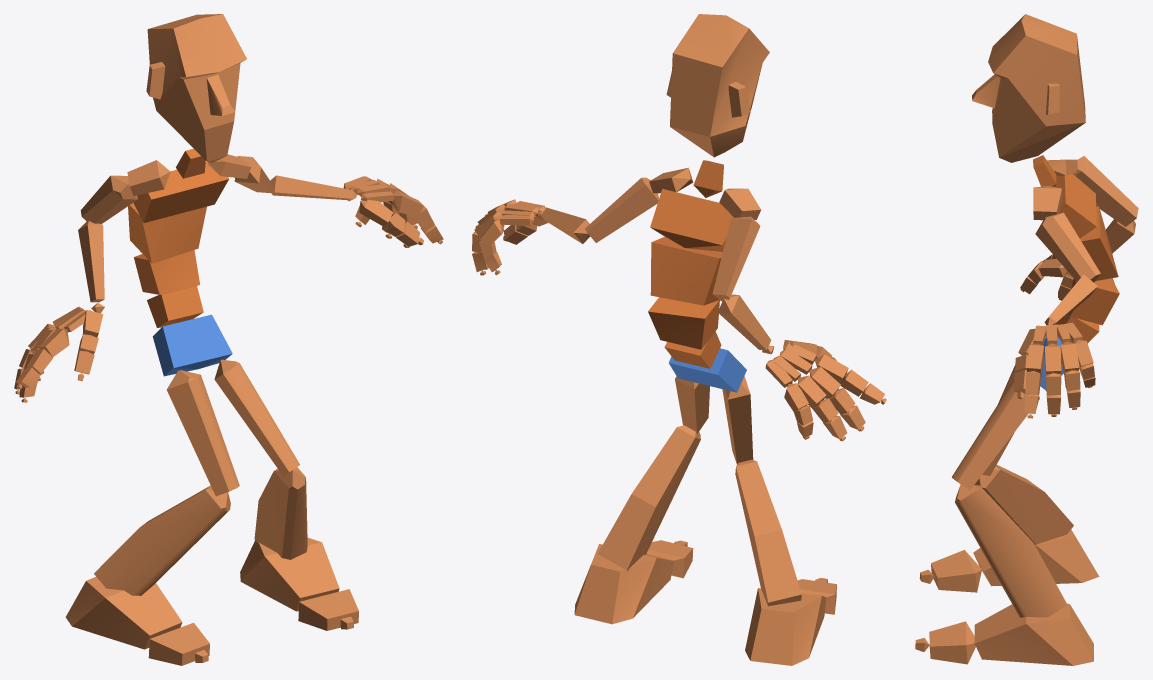
File: prueba100.obj
The picture shows the model from 3 angles, left to right: view 1: azimuth 30°, elevation 25°; view 2: azimuth 150°, elevation 25°; view 3: azimuth 270°, elevation 25°; orthographic projection. The views are drawn at different scales.
Parts seen in each view (by area): view 1: BOPED_Head, BOPED_R_leg, BOPED_R_foot, BOPED_R_foot01, BOPED_R_legup, BOPED_L_leg, Bone01, BOPED_L_legup, Bone04, Bone05, Bone03, BOPED_R_foot_toe04 (+9 smaller); view 2: BOPED_Head, BOPED_L_leg, BOPED_R_leg, BOPED_R_foot01, BOPED_R_foot, Bone04, Bone05, Bone03, BOPED_R_arm_upper, BOPED_L_arm_upper, Bone01, BOPED_R_legup (+9 smaller); view 3: BOPED_Head, BOPED_L_leg, BOPED_R_foot01, BOPED_R_leg, BOPED_L_legup, BOPED_R_foot, BOPED_L_arm_upper, BOPED_R_arm_upper, Bone05, BOPED_R_foot_toe01, BOPED_R_foot_toe04, Bone03 (+15 smaller).
Boxes of the visible parts, x1=… form: BOPED_Head: x1=146, y1=14, x2=246, y2=162; BOPED_R_leg: x1=94, y1=485, x2=230, y2=595; BOPED_R_foot: x1=65, y1=577, x2=182, y2=649; BOPED_R_foot01: x1=240, y1=537, x2=339, y2=611; BOPED_R_legup: x1=166, y1=370, x2=239, y2=496; BOPED_L_leg: x1=254, y1=467, x2=307, y2=559; Bone01: x1=152, y1=314, x2=232, y2=376; BOPED_L_legup: x1=214, y1=359, x2=299, y2=475; Bone04: x1=128, y1=203, x2=206, y2=263; Bone05: x1=133, y1=162, x2=228, y2=222; Bone03: x1=134, y1=250, x2=200, y2=294; BOPED_R_foot_toe04: x1=298, y1=589, x2=358, y2=630; BOPED_Head: x1=666, y1=14, x2=769, y2=157; BOPED_L_leg: x1=597, y1=425, x2=700, y2=570; BOPED_R_leg: x1=735, y1=459, x2=801, y2=606; BOPED_R_foot01: x1=574, y1=544, x2=674, y2=624; BOPED_R_foot: x1=745, y1=588, x2=826, y2=665; Bone04: x1=650, y1=237, x2=722, y2=305; Bone05: x1=650, y1=189, x2=733, y2=251; Bone03: x1=648, y1=297, x2=719, y2=349; BOPED_R_arm_upper: x1=712, y1=216, x2=760, y2=301; BOPED_L_arm_upper: x1=585, y1=177, x2=658, y2=242; Bone01: x1=669, y1=348, x2=746, y2=392; BOPED_R_legup: x1=722, y1=376, x2=753, y2=464; BOPED_Head: x1=972, y1=14, x2=1085, y2=162; BOPED_L_leg: x1=955, y1=484, x2=1067, y2=617; BOPED_R_foot01: x1=974, y1=603, x2=1093, y2=665; BOPED_R_leg: x1=974, y1=465, x2=1073, y2=544; BOPED_L_legup: x1=952, y1=379, x2=1039, y2=490; BOPED_R_foot: x1=973, y1=529, x2=1099, y2=586; BOPED_L_arm_upper: x1=1035, y1=212, x2=1100, y2=282; BOPED_R_arm_upper: x1=1073, y1=156, x2=1138, y2=226; Bone05: x1=1055, y1=173, x2=1096, y2=238; BOPED_R_foot_toe01: x1=931, y1=550, x2=981, y2=592; BOPED_R_foot_toe04: x1=929, y1=621, x2=975, y2=664; Bone03: x1=1069, y1=278, x2=1119, y2=325.
Size of the model in its own units: 130 by 179 by 61.68.
